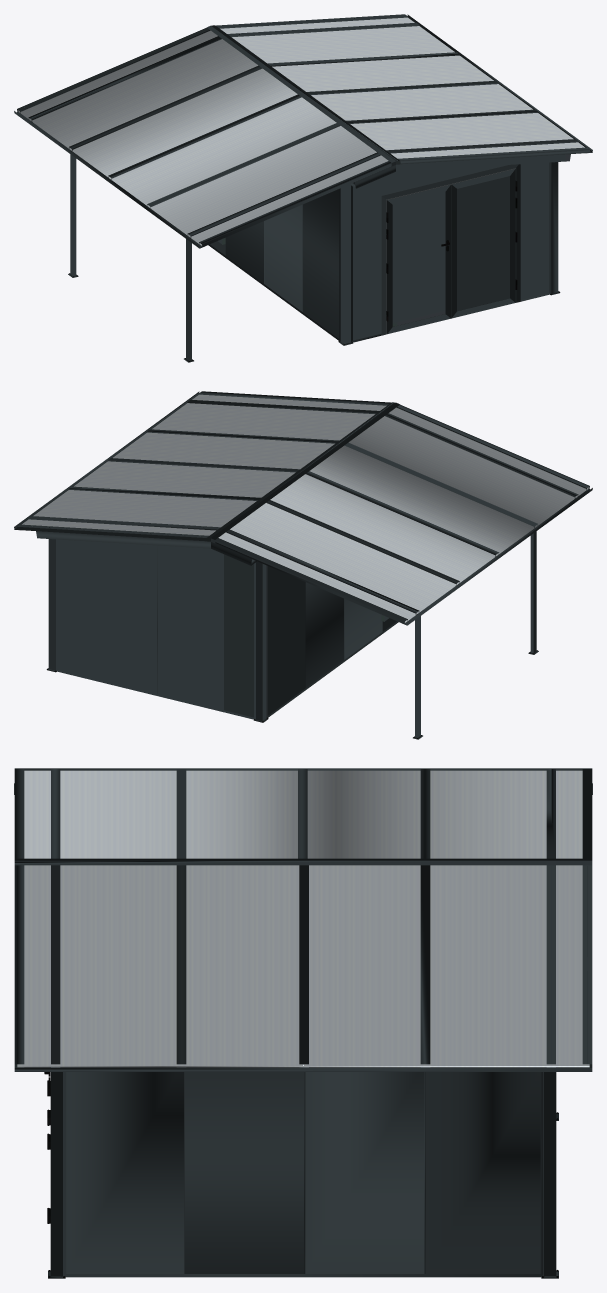
3 views of the same model, one above another, from view 1: azimuth 30°, elevation 25°; view 2: azimuth 150°, elevation 25°; view 3: azimuth 270°, elevation 25° (orthographic). The views are drawn at different scales.
Parts seen in each view (by area): view 1: priximbattable_net_abris_de_jardin_640006_abri_de_jardin_jon, folha_2, folha, porta_avec_hublot_1; view 2: priximbattable_net_abris_de_jardin_640006_abri_de_jardin_jon; view 3: priximbattable_net_abris_de_jardin_640006_abri_de_jardin_jon.
Boxes of the visible parts, x1,y1,x2,y2 form: priximbattable_net_abris_de_jardin_640006_abri_de_jardin_jon: [14, 14, 592, 362]; folha_2: [386, 184, 451, 334]; folha: [451, 168, 517, 318]; porta_avec_hublot_1: [381, 164, 520, 335]; priximbattable_net_abris_de_jardin_640006_abri_de_jardin_jon: [14, 391, 592, 739]; priximbattable_net_abris_de_jardin_640006_abri_de_jardin_jon: [14, 768, 592, 1278].
Size of the model in its own units: 589 by 261 by 481.
1 material, 1 textured.
